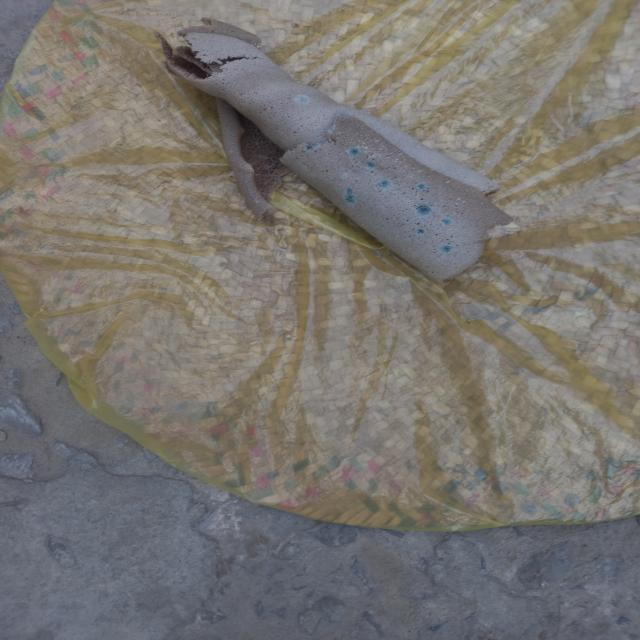injera_mold: (340, 187, 361, 204), (412, 203, 435, 216), (437, 243, 457, 255), (376, 177, 391, 190), (324, 122, 340, 134), (346, 146, 362, 156), (334, 111, 353, 119), (295, 95, 311, 104), (363, 160, 377, 170), (302, 142, 317, 151), (244, 164, 256, 174), (339, 171, 348, 184), (442, 216, 450, 229), (416, 182, 426, 190), (418, 228, 424, 235), (378, 145, 384, 152), (370, 138, 380, 142), (364, 146, 368, 154), (418, 168, 423, 174), (398, 152, 403, 157), (372, 153, 378, 157), (455, 202, 459, 207), (445, 179, 448, 185), (462, 200, 465, 206), (361, 141, 365, 145), (335, 136, 339, 140), (395, 158, 398, 163), (252, 43, 255, 47), (457, 198, 461, 200), (257, 45, 259, 48)
